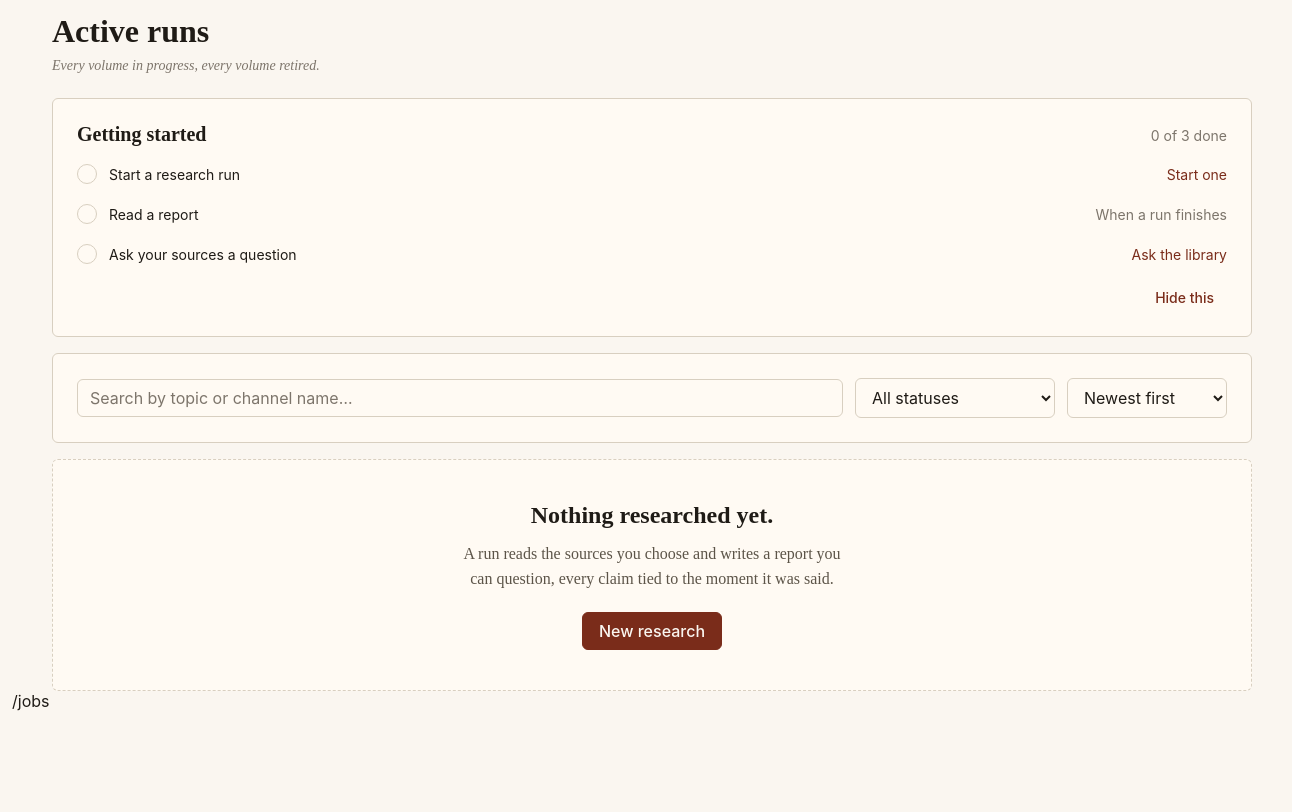
Test: ChecklistCard on the jobs page › Hide this keeps it hidden on the server
The image size is (1292, 812).
What coordinates should you click on to do the following:
click the button "Hide this"
I would click on:
 (1185, 297)
Its box is left=1142, top=282, right=1227, bottom=312.
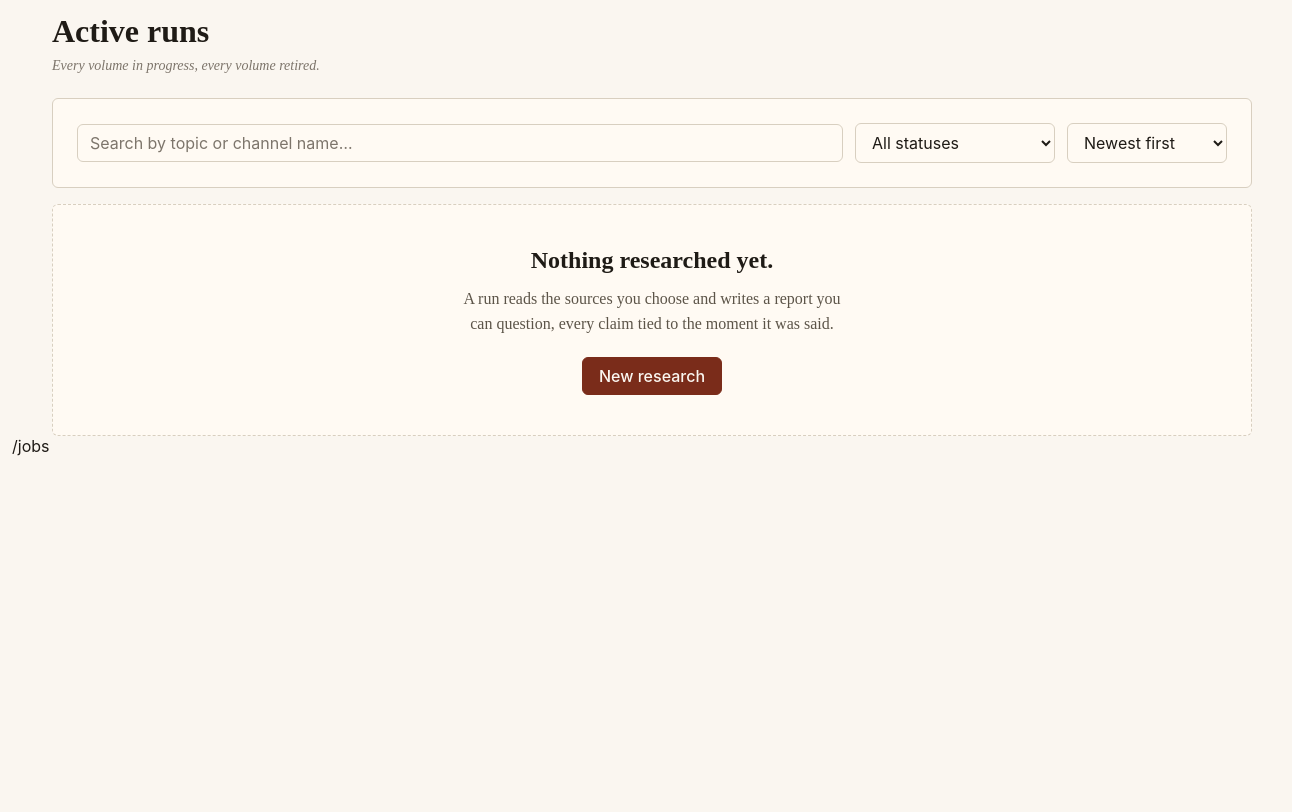
Check: the heading "Getting started" is gone
